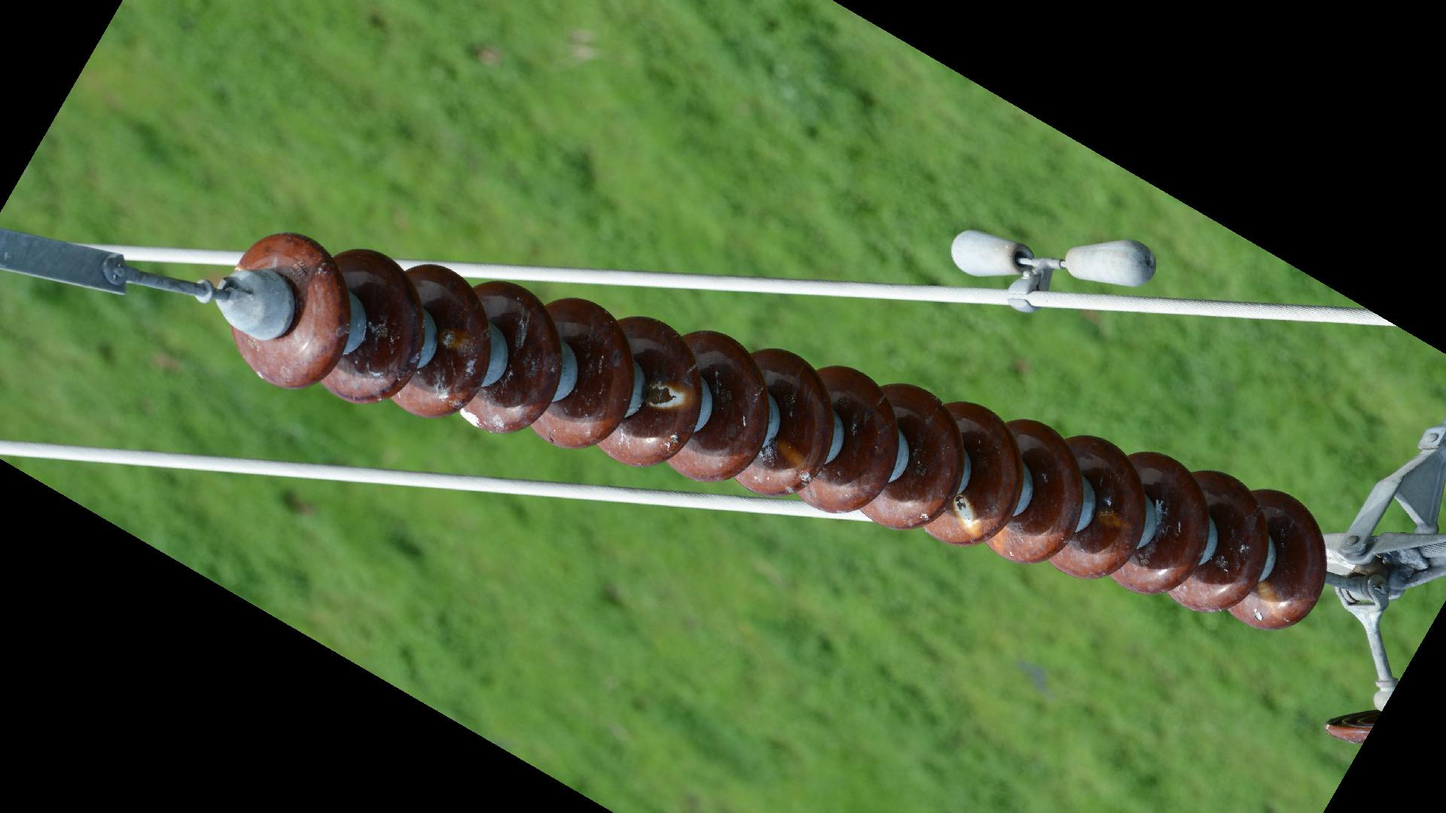insulator: (225, 227, 1333, 636)
insulator_flashover: (950, 492, 984, 542), (643, 379, 691, 413), (1253, 578, 1288, 624)
